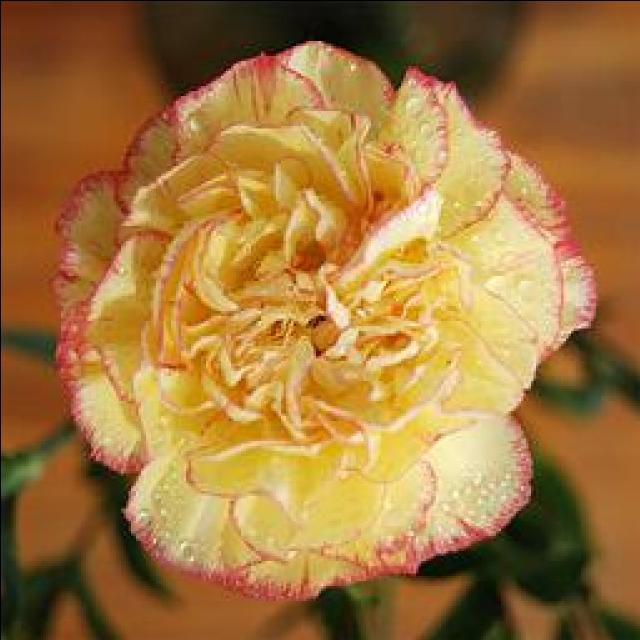carnation: (21, 38, 606, 594)
